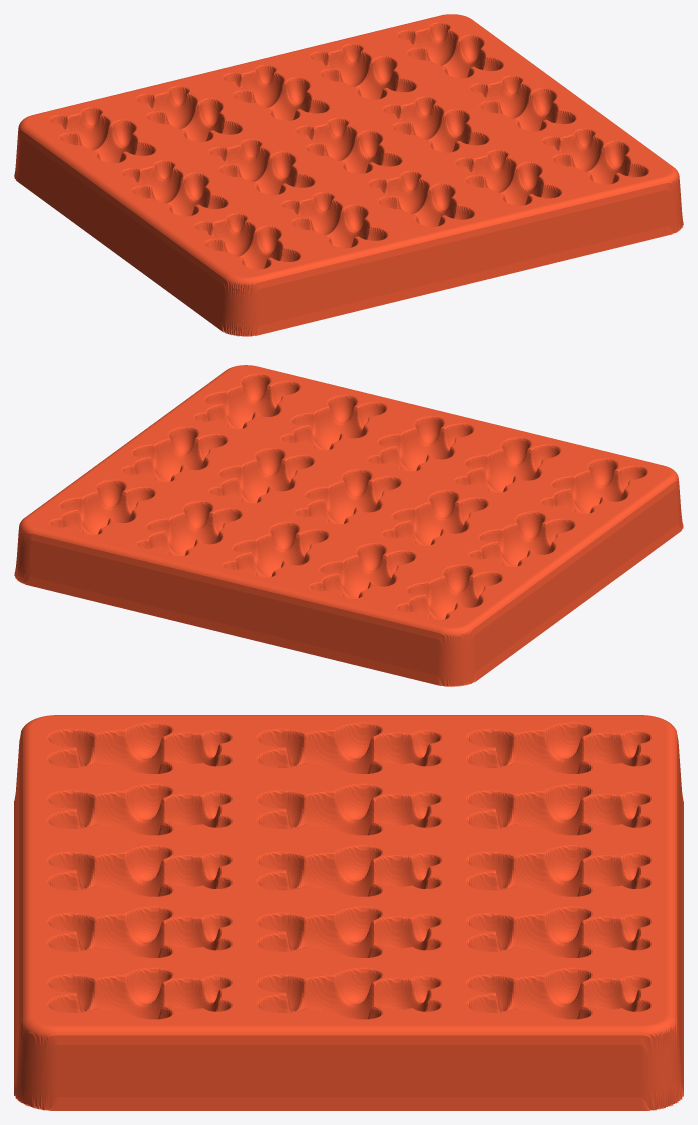
Rendered from mold.glb.
3 renders of one model, top to bottom at view 1: azimuth 30°, elevation 25°; view 2: azimuth 150°, elevation 25°; view 3: azimuth 270°, elevation 25°, orthographic. The views are drawn at different scales.
Parts seen in each view (by area): view 1: geometry_0; view 2: geometry_0; view 3: geometry_0.
Part boxes in pixels (<box>): geometry_0: <box>14,14,683,336</box>; geometry_0: <box>14,365,683,686</box>; geometry_0: <box>14,715,683,1110</box>.
Size of the model in its own units: 0.1619 by 0.0182 by 0.1415.
